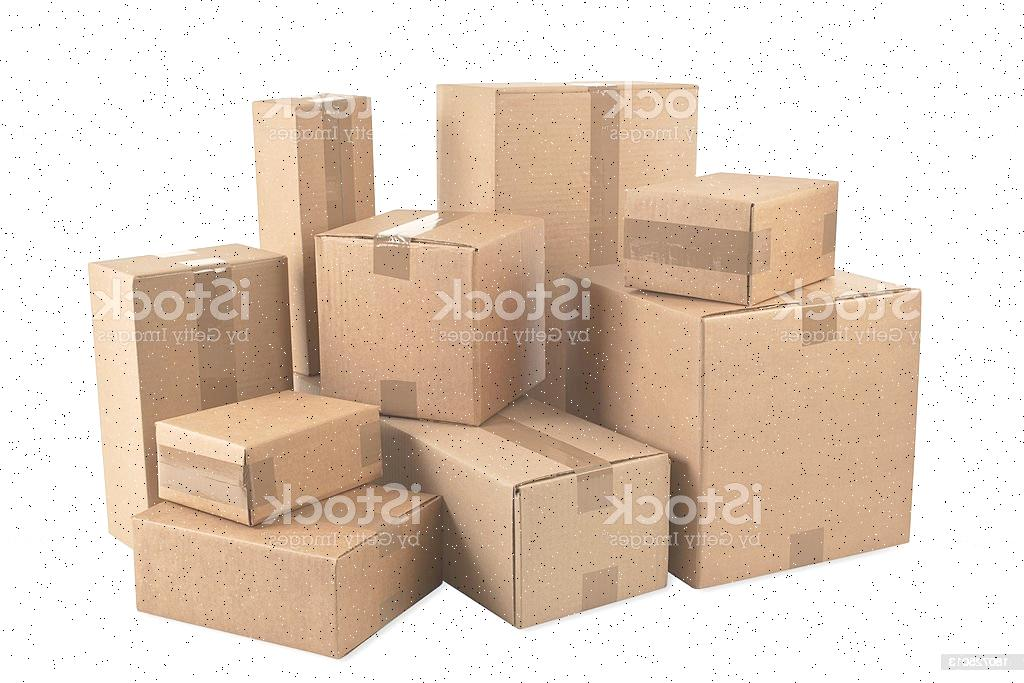Box: (570, 266, 922, 587), (436, 80, 698, 408), (383, 398, 670, 628), (88, 244, 292, 543), (134, 484, 442, 658), (316, 210, 550, 425), (252, 78, 374, 376), (157, 390, 382, 525), (624, 172, 837, 305)
